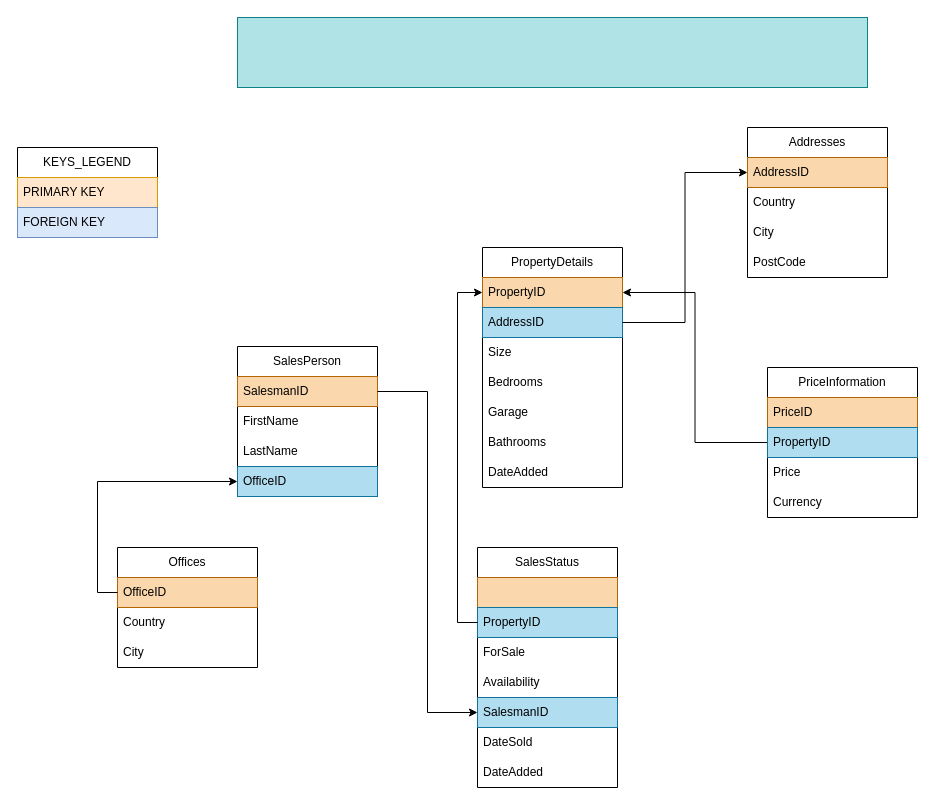
This 935x805 diagram has some shape labels left out. Here are the shapes that lost their labels. From the top down, the centre of each, then its label:
(x=552, y=52): REAL ESTATE AGENCY DATABASE DESIGN
(x=547, y=592): SalesID
